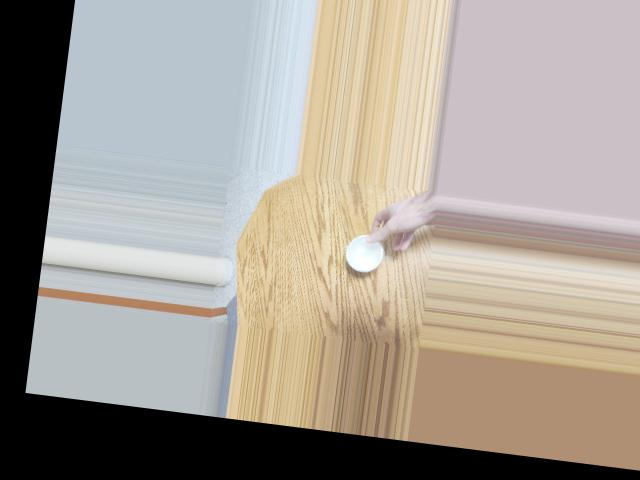cotage: (340, 231, 385, 274)
